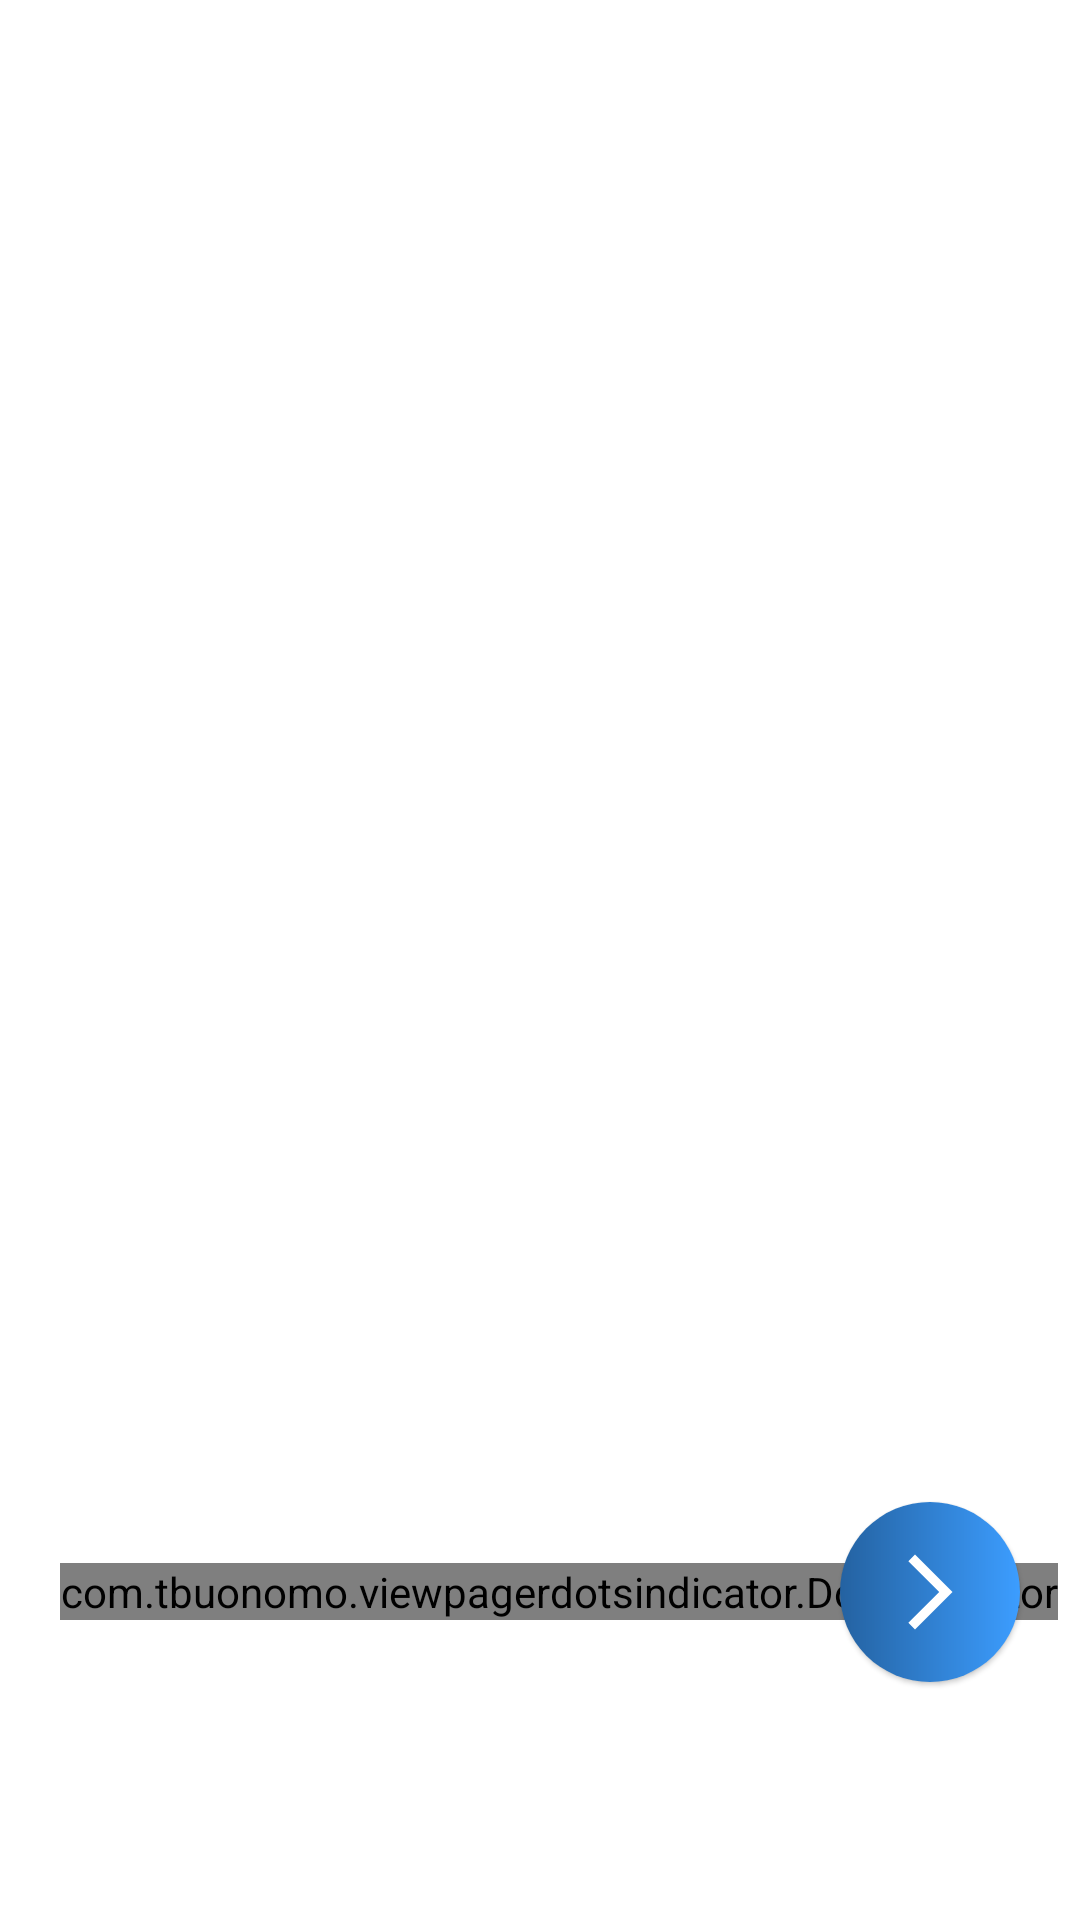

Icons on this 1080 × 1920 Android screen, each with the point to tap as [x,y]:
arrow forward: [930,1592]
